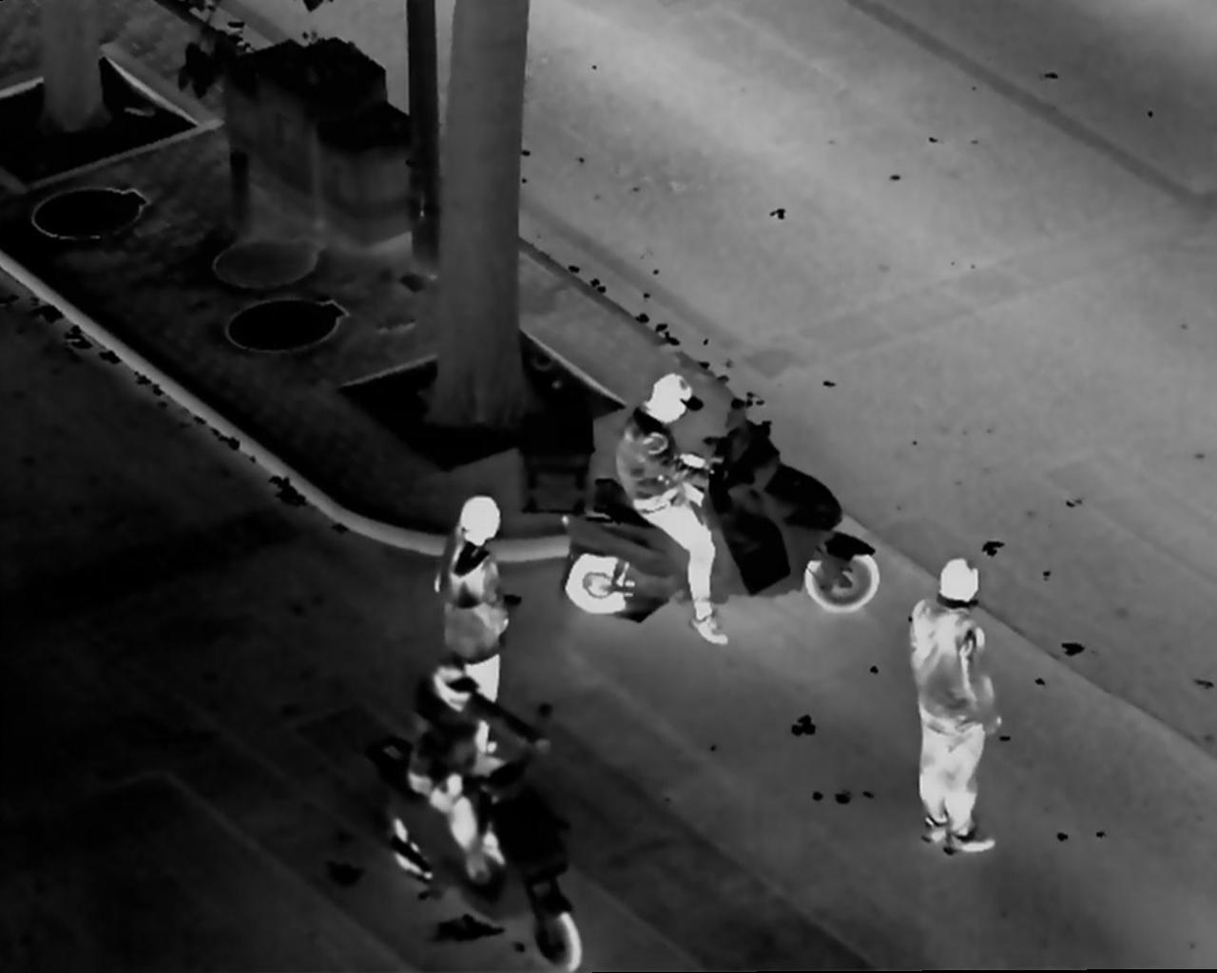person: (894, 544, 1016, 869), (612, 369, 742, 649), (418, 665, 526, 906), (439, 489, 526, 727)
